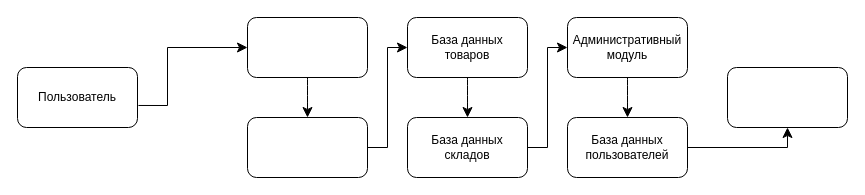
This 865x195 diagram has some shape labels left out. Each missing label, with the box of its shape:
Внешняя логистическая система: (726, 66, 848, 128)
Каталог товаров: (246, 116, 368, 178)
Личный кабинет: (246, 16, 368, 78)
